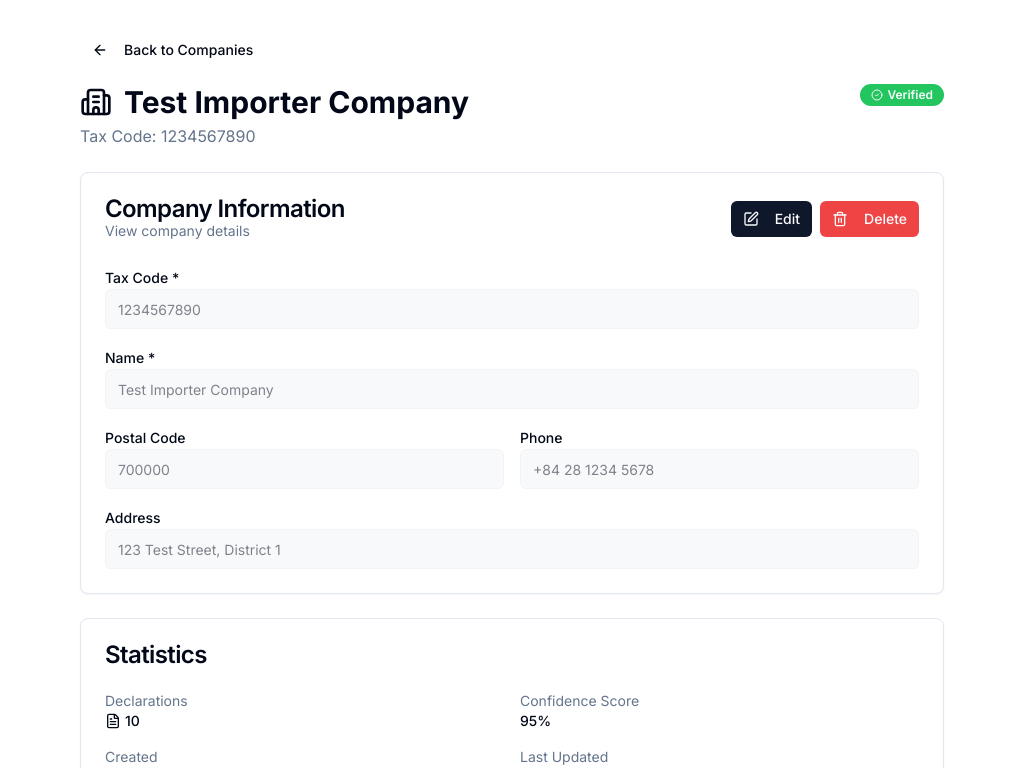
Test: CompanyDetailsPage › Save Functionality › exits edit mode after successful save
Click the button "Edit": (771, 219) [731,201,812,237]
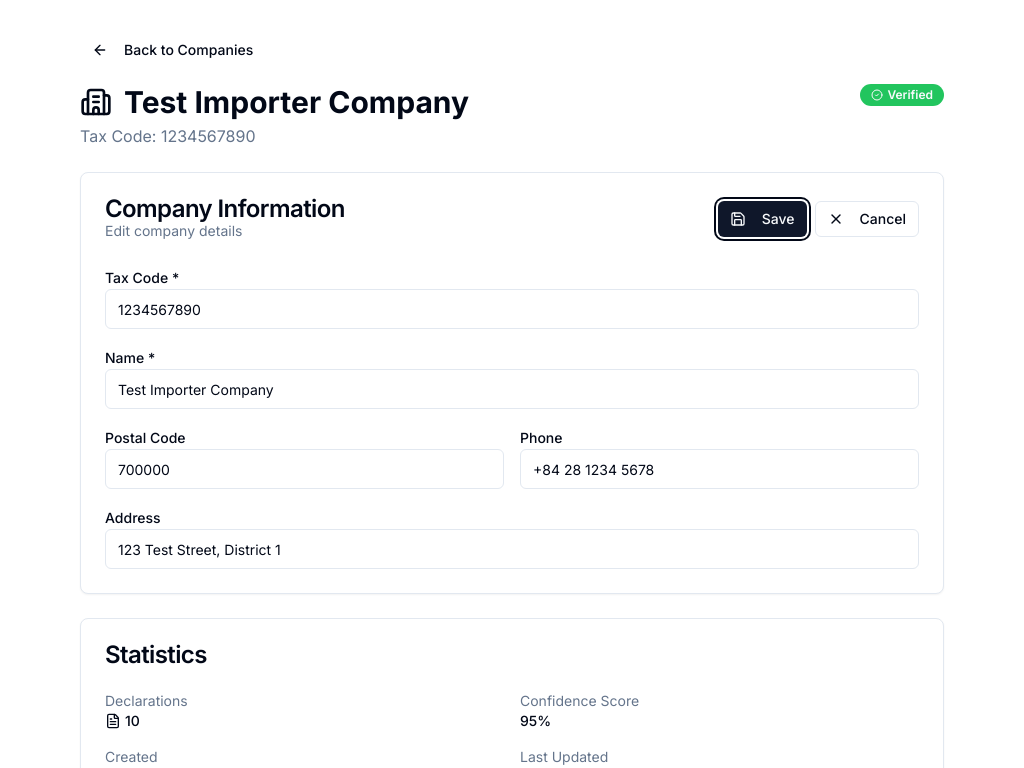
Click the button "Save": (762, 219) [718,201,806,237]
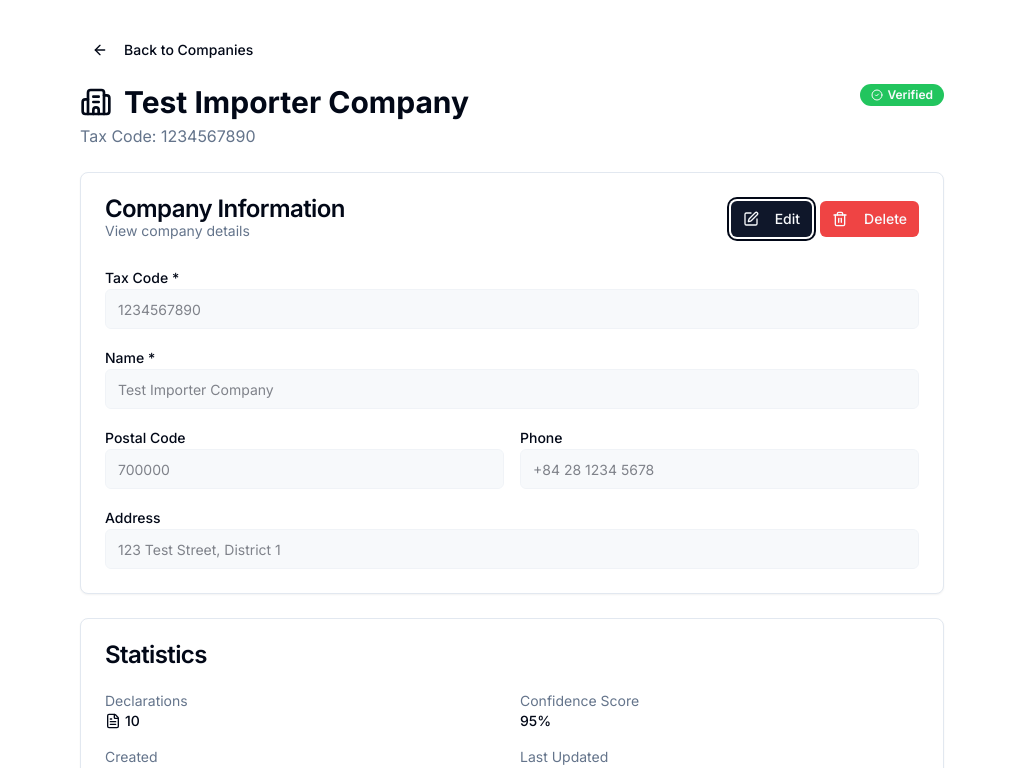
Expected: the button "Edit" is shown, [731,201,812,237]
